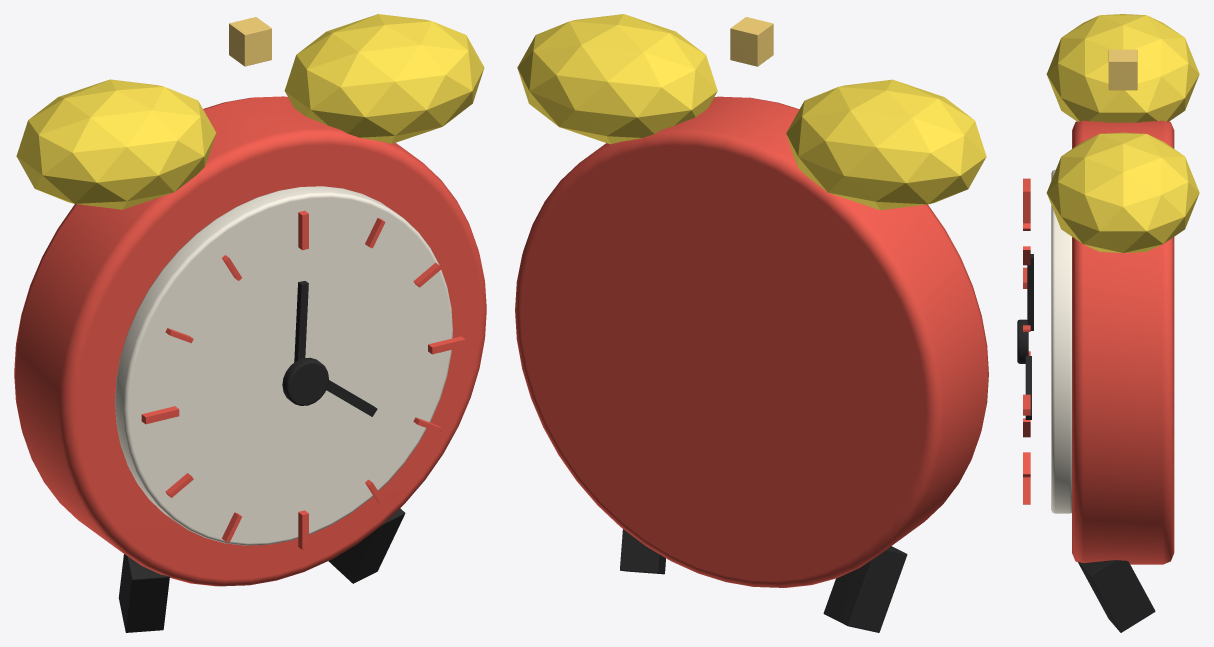
The model's file is alarm-clock.glb.
3 views of the same model, side by side, from view 1: azimuth 30°, elevation 25°; view 2: azimuth 150°, elevation 25°; view 3: azimuth 270°, elevation 25° (orthographic). The views are drawn at different scales.
Parts seen in each view (by area): view 1: cream clock face, red outer case, left yellow bell, right yellow bell, left foot, right foot, top hammer, center pin, minute hand; view 2: red outer case, left yellow bell, right yellow bell, left foot, top hammer, right foot; view 3: red outer case, right yellow bell, left yellow bell, cream clock face, right foot, top hammer, minute hand, center pin, hour hand, clock tick.
Boxes of the visible parts, x1,y1,x2,y2 form: cream clock face: (115,186,452,545); red outer case: (14,96,486,586); left yellow bell: (16,79,216,209); right yellow bell: (284,14,484,143); left foot: (118,554,169,632); right foot: (328,508,405,583); top hammer: (229,17,271,66); center pin: (282,357,328,405); minute hand: (294,281,308,362); red outer case: (515,96,988,587); left yellow bell: (786,79,986,210); right yellow bell: (517,14,717,144); left foot: (823,546,907,632); top hammer: (730,17,773,66); right foot: (620,529,665,574); red outer case: (1072,120,1174,564); right yellow bell: (1046,132,1199,252); left yellow bell: (1046,14,1199,122); cream clock face: (1051,169,1071,513); right foot: (1078,560,1155,632); top hammer: (1108,49,1137,90); minute hand: (1027,254,1033,330); center pin: (1017,319,1028,363); hour hand: (1025,356,1031,419); clock tick: (1023,188,1030,223).
Bounding box in the file's own units: 0.7253 × 0.9027 × 0.286.
